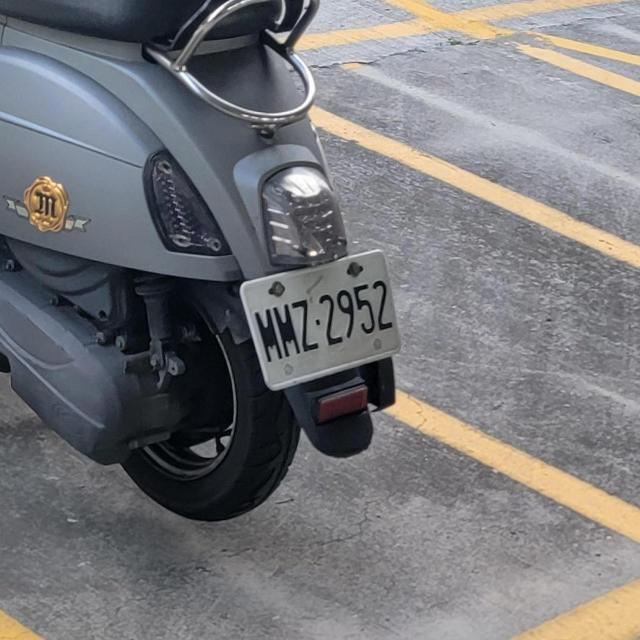W: (234, 242, 406, 394)
